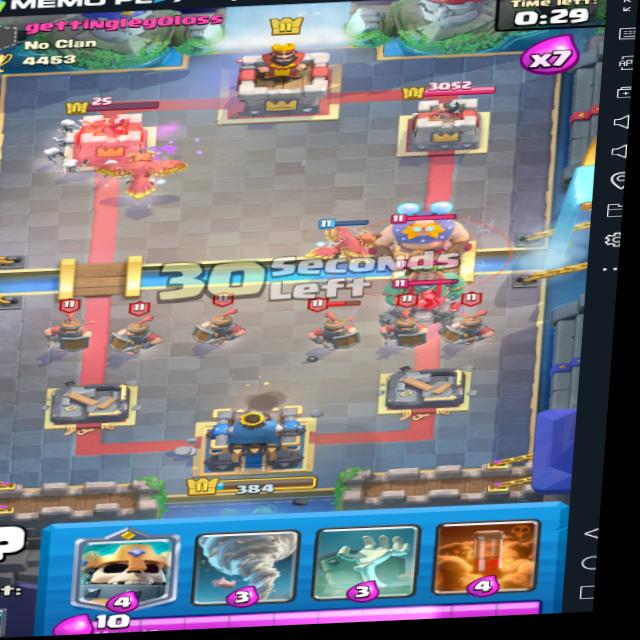Egiant: (373, 197, 478, 262)
Goblingiant: (388, 249, 467, 305)
Golem: (375, 268, 477, 336)
Royalrecruits: (446, 288, 507, 350), (310, 293, 363, 354), (196, 291, 249, 352), (377, 305, 434, 350), (42, 304, 96, 349), (115, 301, 159, 356)
